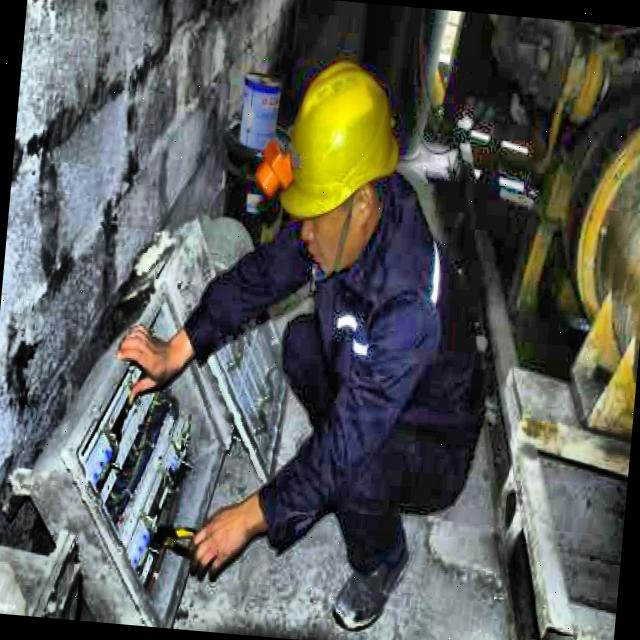helmet: (267, 46, 414, 278)
